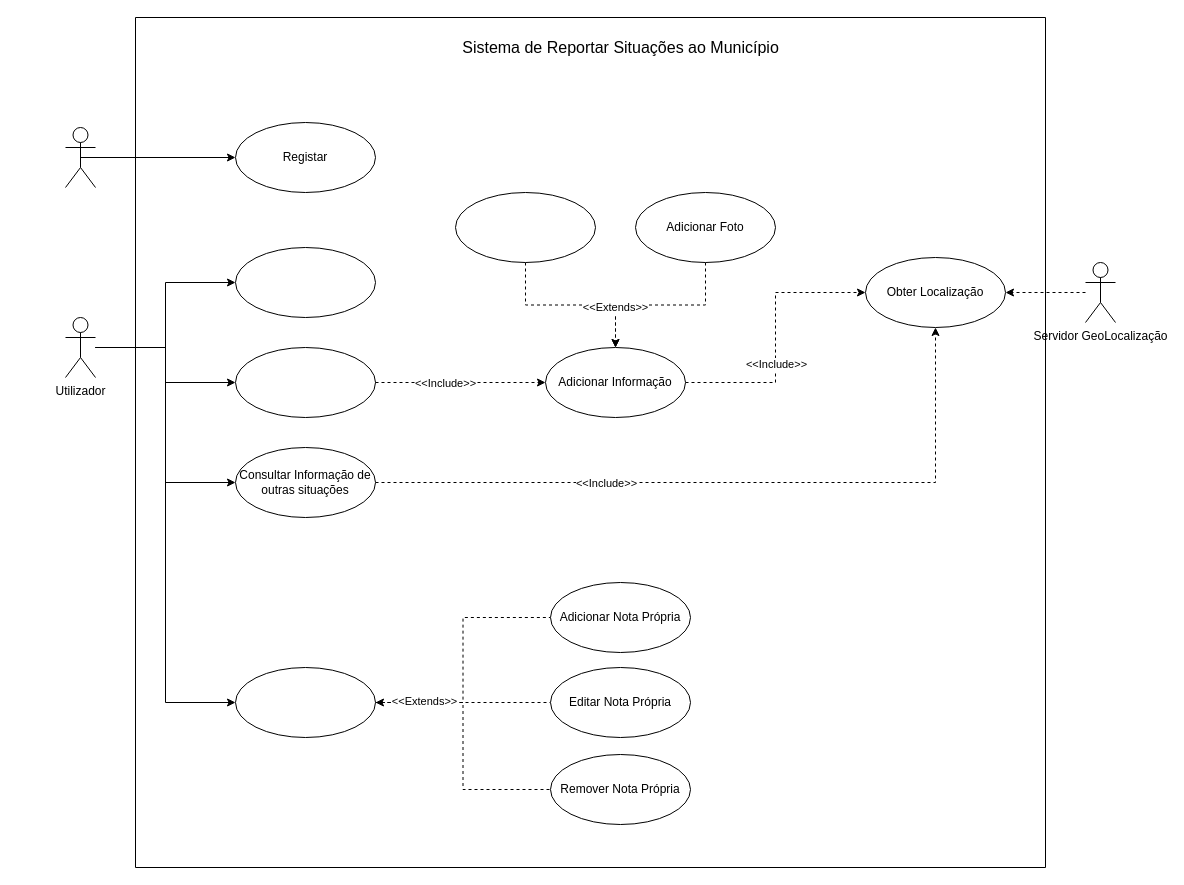
The diagram is 1184 pixels wide and 885 high, and some of its shapes have lost their labels. The box of each missing label's shape, as (x1, y1, x2, y2) in pixels:
Adicionar Texto Descritivo: (454, 192, 596, 262)
Consultar Notas Próprias: (234, 666, 376, 738)
Login: (234, 246, 376, 318)
Reportar Situação: (234, 346, 376, 418)
Utilizador não registado: (64, 126, 96, 188)
